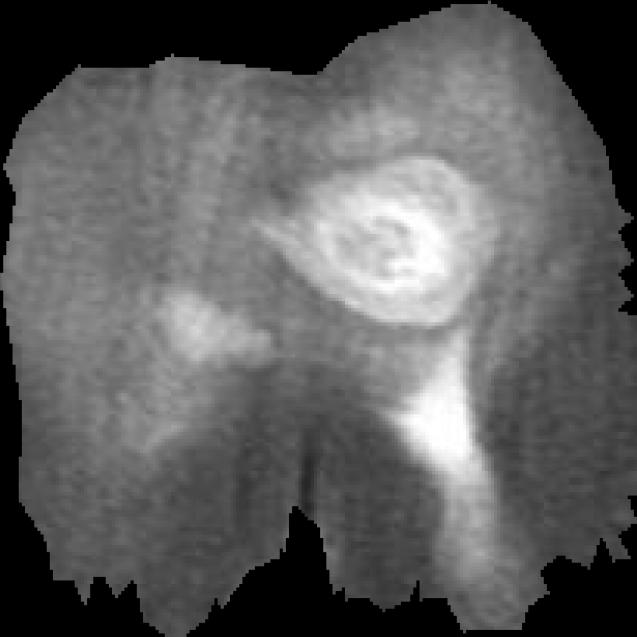tumor_less_chance: (0, 1, 637, 637)
